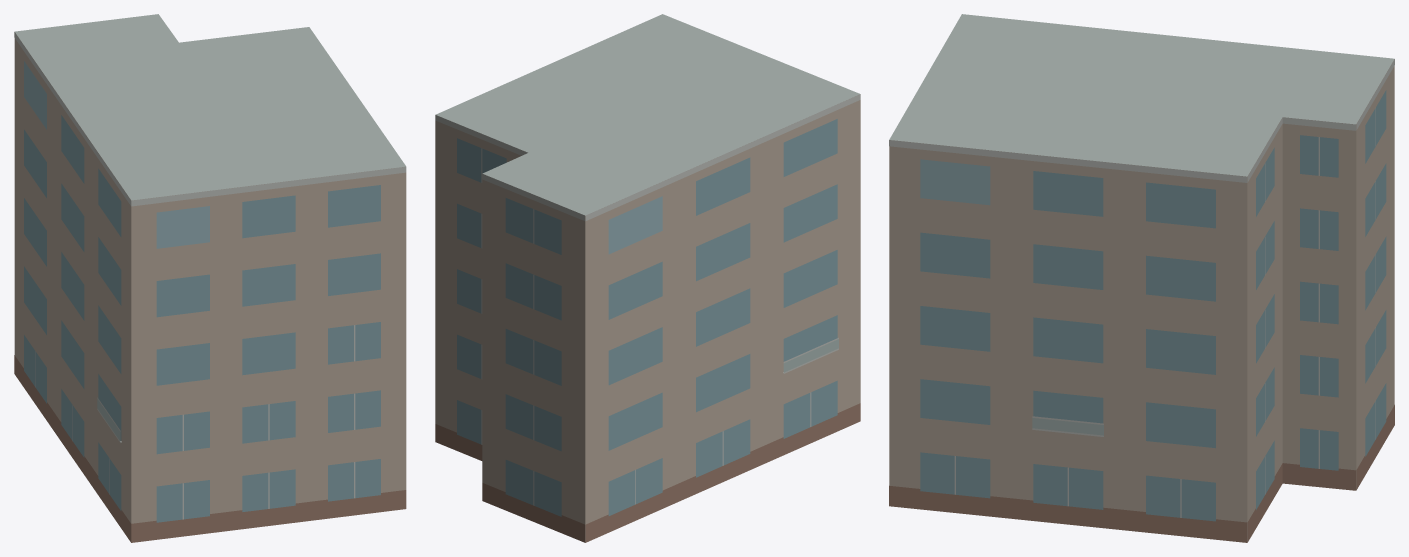
Rendered from survey-upis-32556843.glb.
The picture shows the model from 3 angles, left to right: view 1: azimuth 30°, elevation 25°; view 2: azimuth 150°, elevation 25°; view 3: azimuth 270°, elevation 25°; orthographic projection. The views are drawn at different scales.
Visible parts, largest first — view 1: survey-upis-32556843.tmp; view 2: survey-upis-32556843.tmp; view 3: survey-upis-32556843.tmp.
Part boxes in pixels (x1,y1,x2,y2): survey-upis-32556843.tmp: (14,14,406,542); survey-upis-32556843.tmp: (435,14,860,542); survey-upis-32556843.tmp: (889,14,1394,542).
Size of the model in its own units: 13.24 by 13.9 by 17.4.
